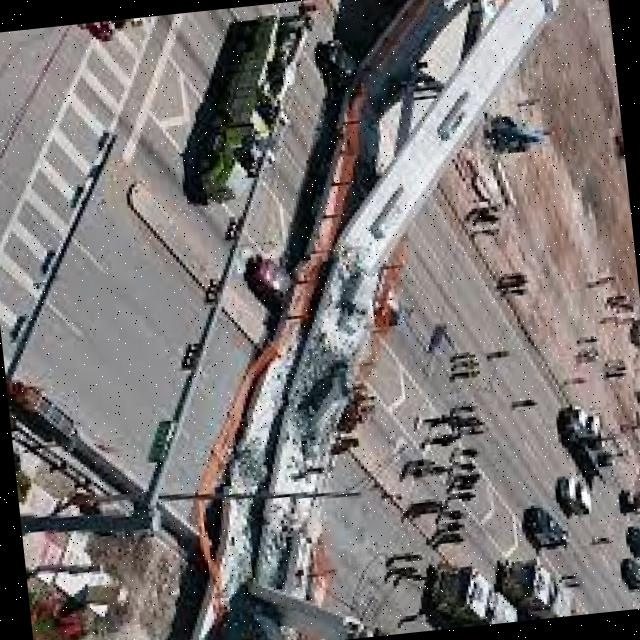bridge collapse: (107, 0, 629, 640)
